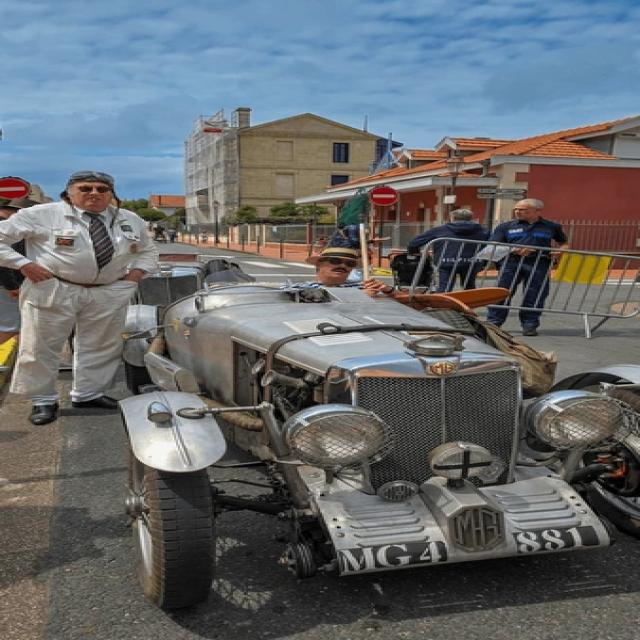mg: (424, 357, 462, 381)
